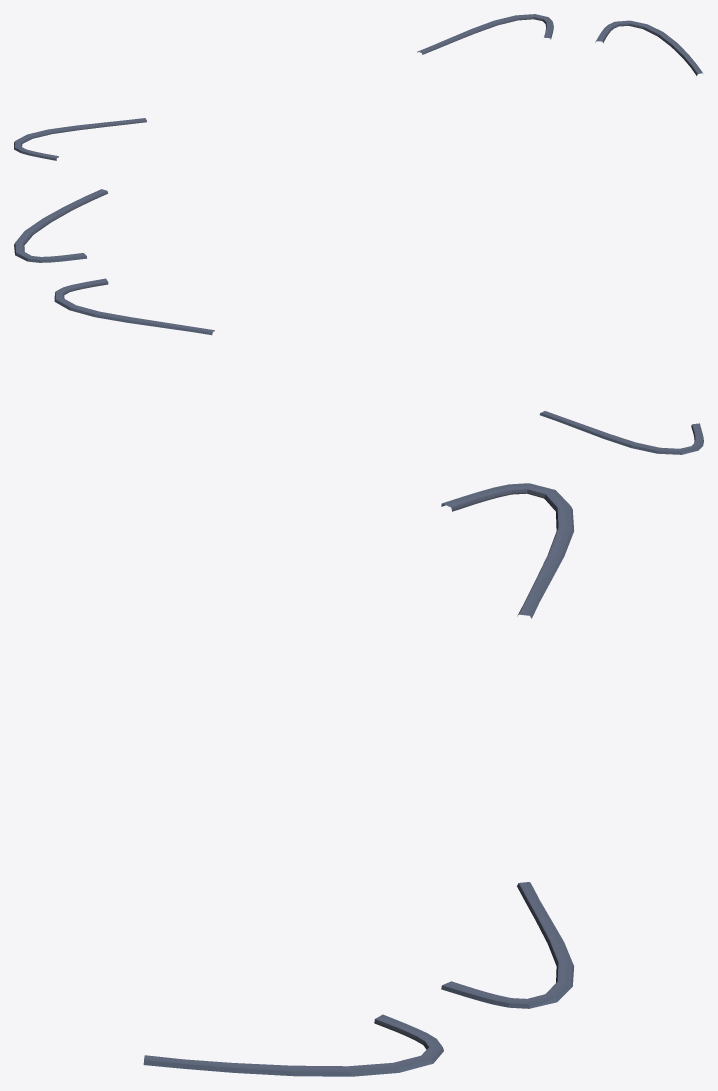
Rendered from pref_sm_beach_bk_pointmol_leftbuild03_lv2.fbx.
The picture shows the model from 3 angles, top to bottom: view 1: azimuth 30°, elevation 25°; view 2: azimuth 150°, elevation 25°; view 3: azimuth 270°, elevation 25°; orthographic projection. The views are drawn at different scales.
Parts seen in each view (by area): view 1: pref_sm_beach_bk_pointmol_leftbuild03_lv2; view 2: pref_sm_beach_bk_pointmol_leftbuild03_lv2; view 3: pref_sm_beach_bk_pointmol_leftbuild03_lv2.
Part boxes in pixels (<box>): pref_sm_beach_bk_pointmol_leftbuild03_lv2: <box>14,14,702,160</box>; pref_sm_beach_bk_pointmol_leftbuild03_lv2: <box>14,189,703,454</box>; pref_sm_beach_bk_pointmol_leftbuild03_lv2: <box>143,483,574,1076</box>.
Size of the model in its own units: 115 by 0.8292 by 35.29.
